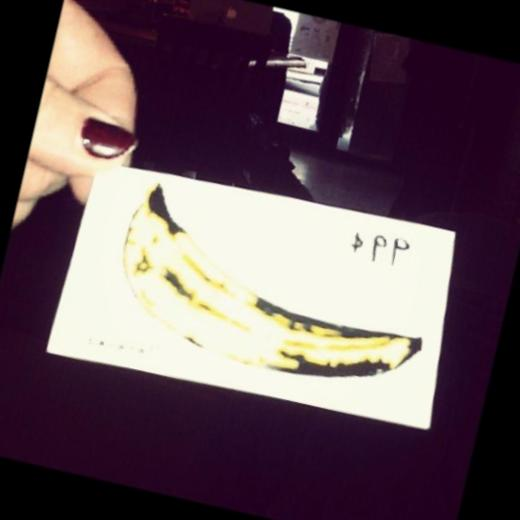Banana: (84, 162, 458, 414)
